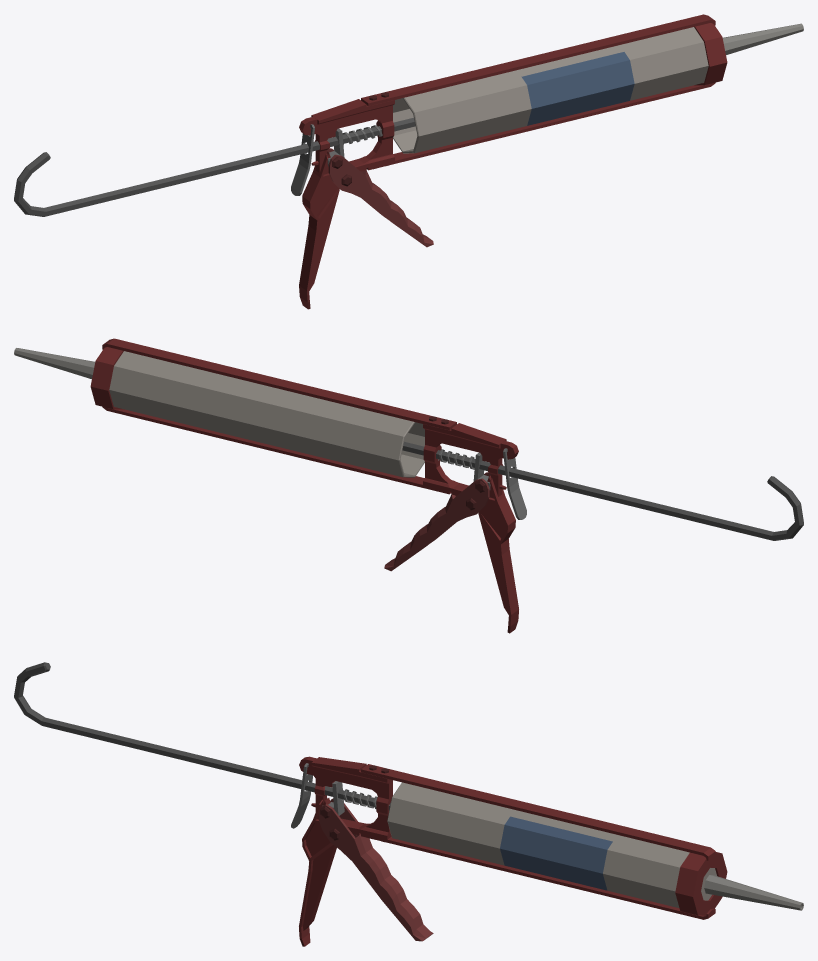
The model's file is Silicone Gun_v2.fbx.
The picture shows the model from 3 angles, top to bottom: view 1: azimuth 30°, elevation 25°; view 2: azimuth 150°, elevation 25°; view 3: azimuth 330°, elevation 25°; orthographic projection.
Visible parts, largest first — view 1: Cylinder.003; view 2: Cylinder.003; view 3: Cylinder.003.
Part boxes in pixels (box(x1,y1,x2,y2)): Cylinder.003: box(14, 14, 803, 309); Cylinder.003: box(14, 338, 803, 633); Cylinder.003: box(14, 662, 803, 946).
Bounding box in the file's own units: 8.83 × 2.34 × 0.6688.
